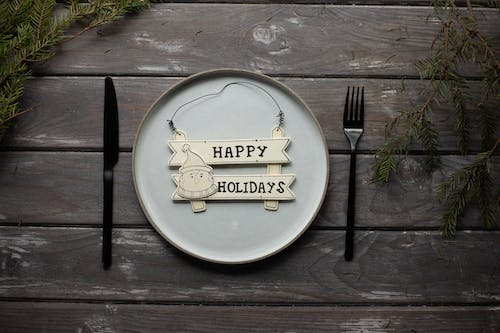knife: (100, 76, 120, 271)
